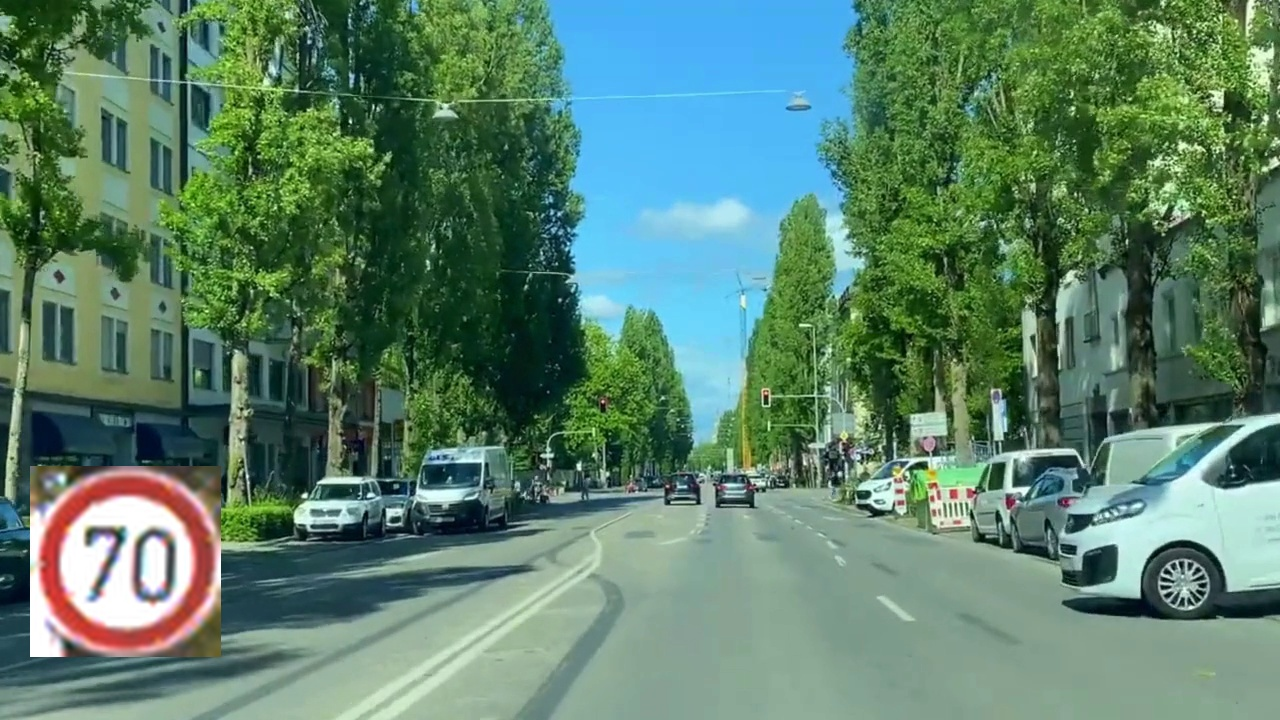Speed 70: (30, 466, 221, 657)
